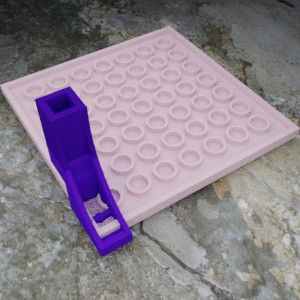lego: (0, 25, 300, 244), (34, 86, 132, 257)
